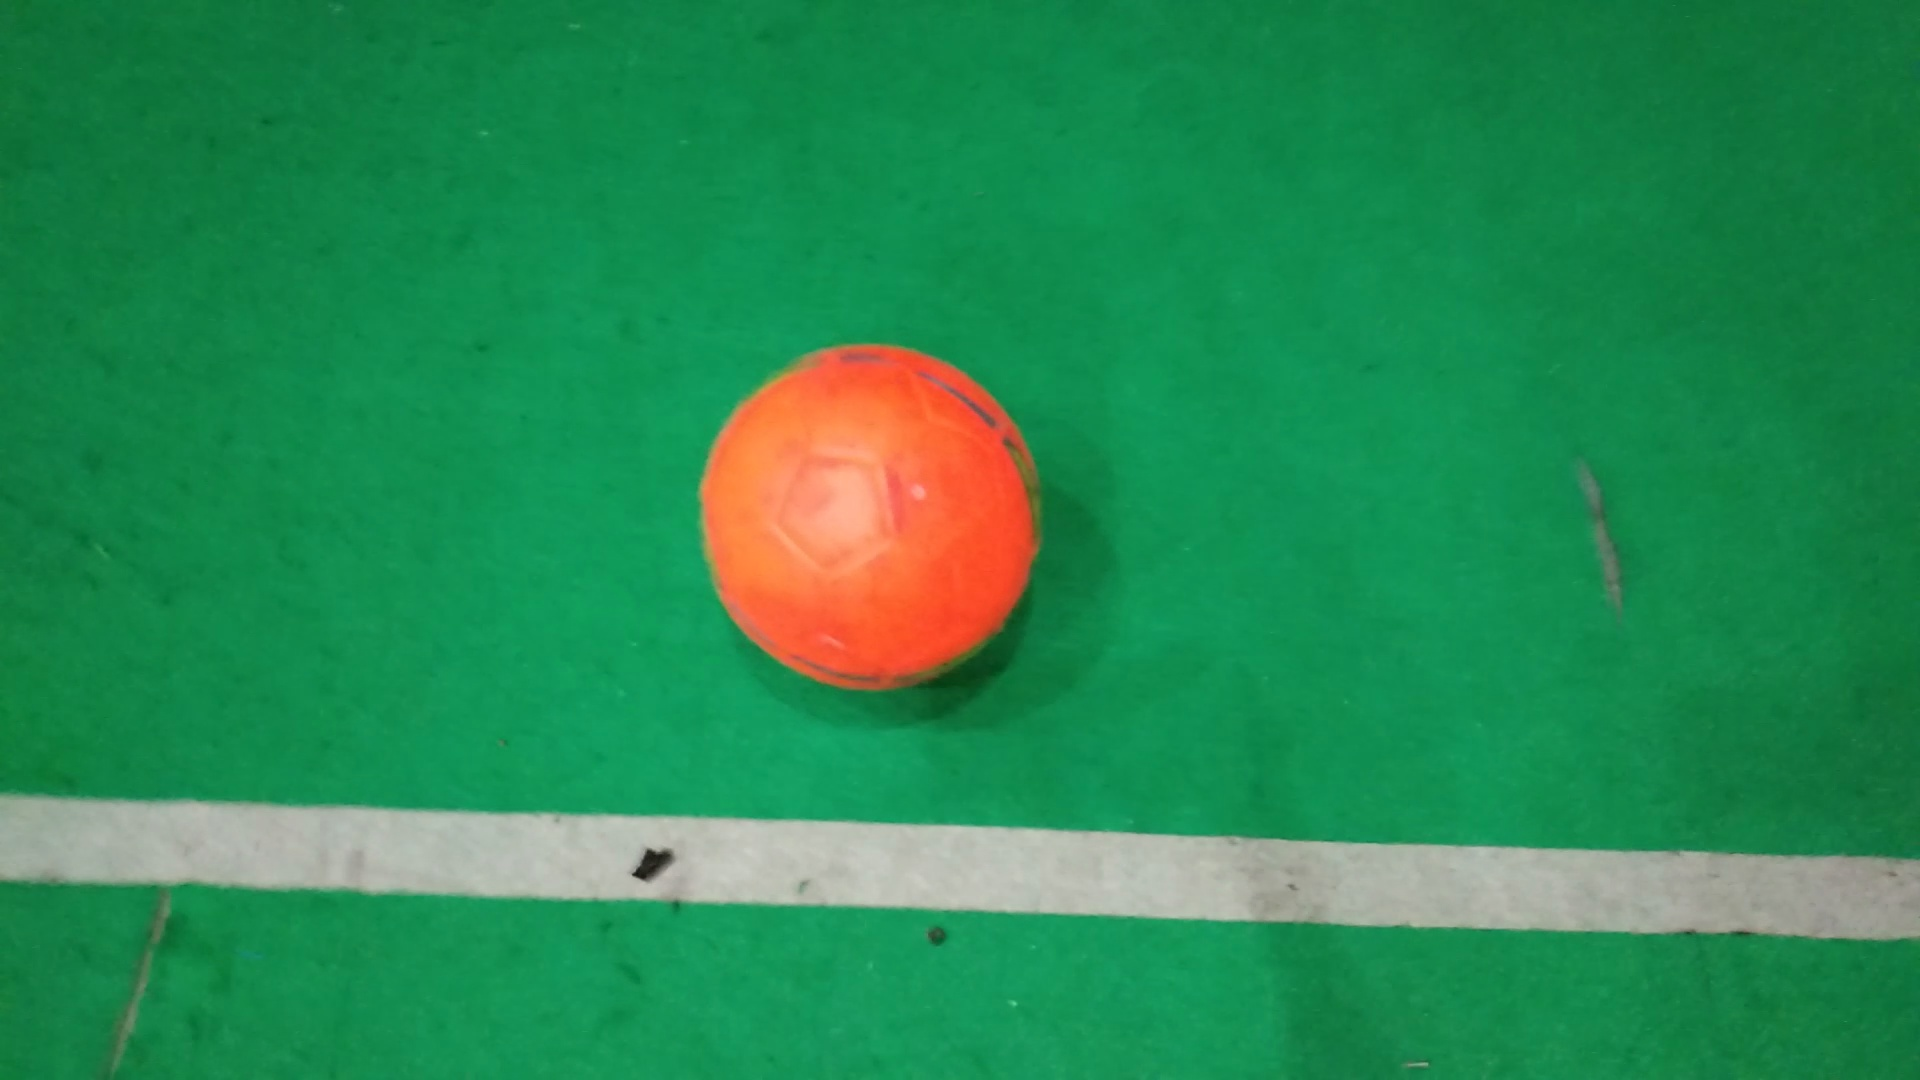bola: (690, 336, 1050, 709)
